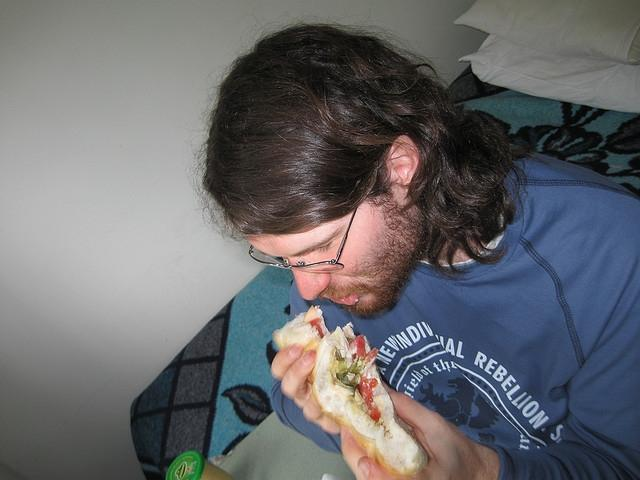tomato: (357, 374, 380, 422), (349, 334, 366, 360), (309, 317, 324, 338), (364, 347, 378, 364)
